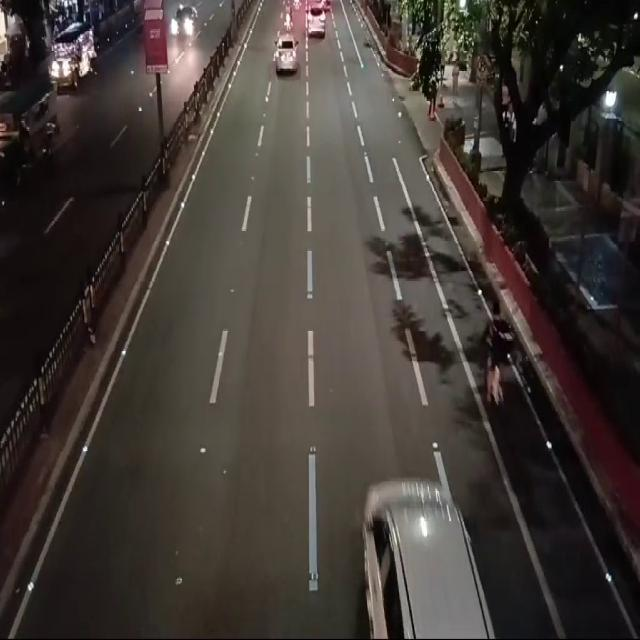car: (357, 480, 484, 639), (275, 35, 302, 80), (304, 2, 330, 38)
jeepney: (53, 27, 102, 98)
